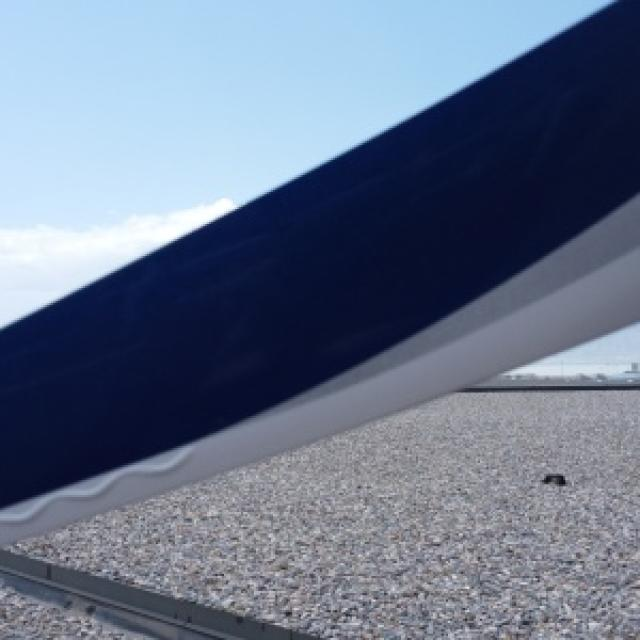healthy: (23, 410, 638, 638)
